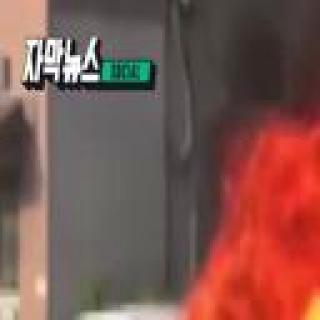fire: (210, 66, 320, 320)
